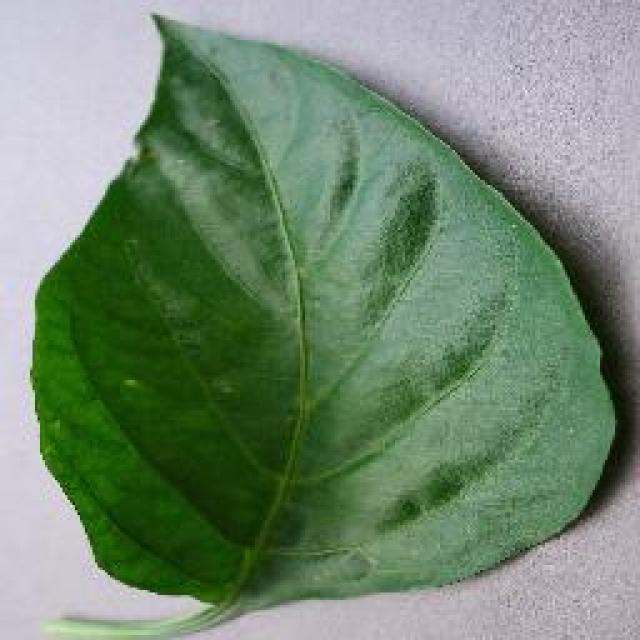Leaf: (28, 15, 626, 638)
